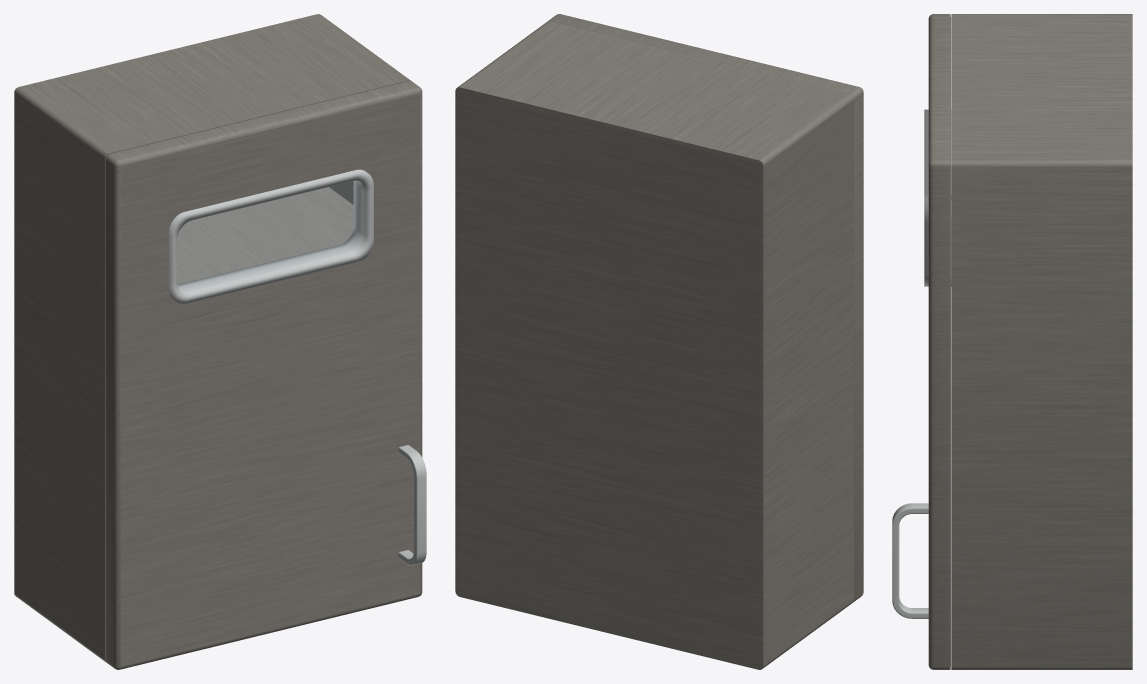
Rendered from SM_MetalWallCabinet.fbx.
3 renders of one model, left to right at view 1: azimuth 30°, elevation 25°; view 2: azimuth 150°, elevation 25°; view 3: azimuth 270°, elevation 25°, orthographic.
Parts seen in each view (by area): view 1: SM_WallCabinetDoor, SM_WallCabinet; view 2: SM_WallCabinet, SM_WallCabinetDoor; view 3: SM_WallCabinet, SM_WallCabinetDoor.
Part boxes in pixels (left/top/right/bottom): SM_WallCabinetDoor: left=105, top=80, right=426, bottom=669; SM_WallCabinet: left=14, top=14, right=410, bottom=662; SM_WallCabinet: left=455, top=21, right=853, bottom=669; SM_WallCabinetDoor: left=548, top=14, right=863, bottom=602; SM_WallCabinet: left=951, top=14, right=1132, bottom=669; SM_WallCabinetDoor: left=892, top=14, right=951, bottom=669.
Size of the model in its own units: 41.42 by 65.52 by 28.06.
